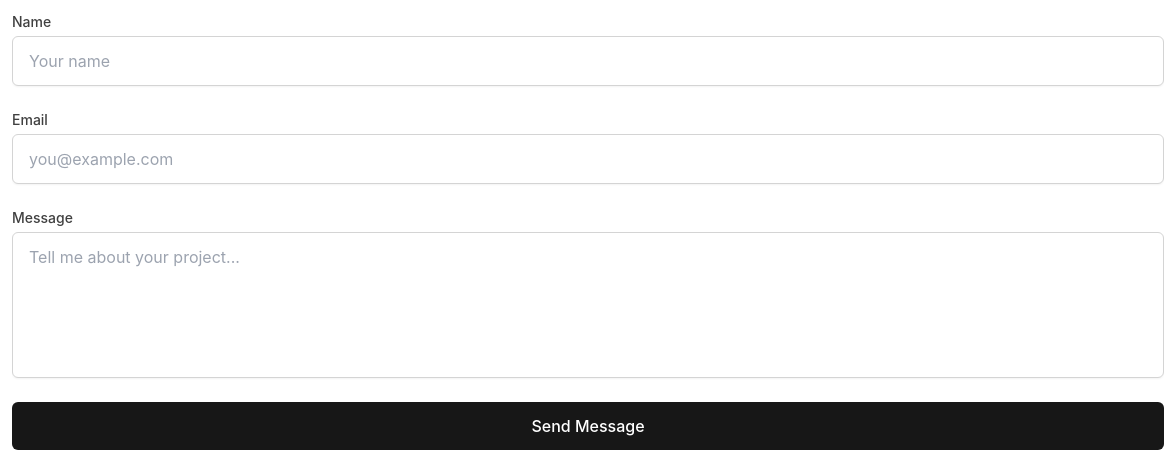
Test case: ContactForm › shows success message after successful submission
The width and height of the screenshot is (1176, 467).
Type "John Doe" into the field labelled "Name" at {"x": 588, "y": 61}, box [12,36,1164,86]
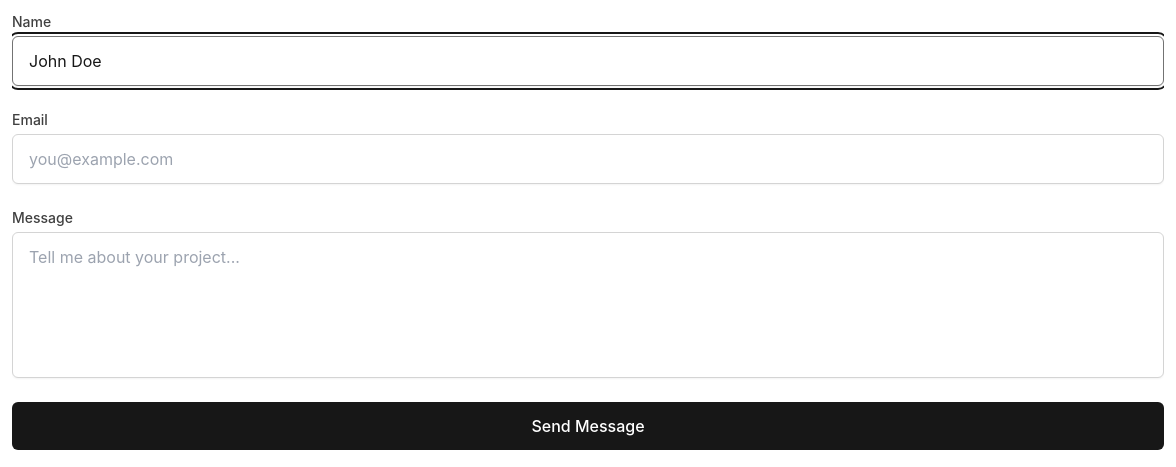
Type "john@example.com" into the field labelled "Email" at {"x": 588, "y": 159}, box [12,134,1164,184]
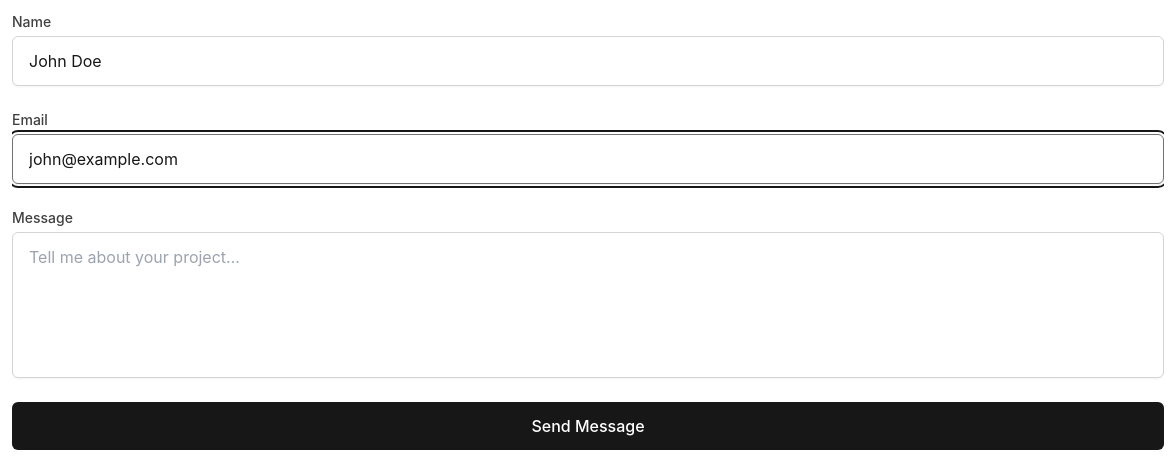
Type "Hello, this is a test message." into the text box labelled "Message" at {"x": 588, "y": 305}, box [12,232,1164,378]
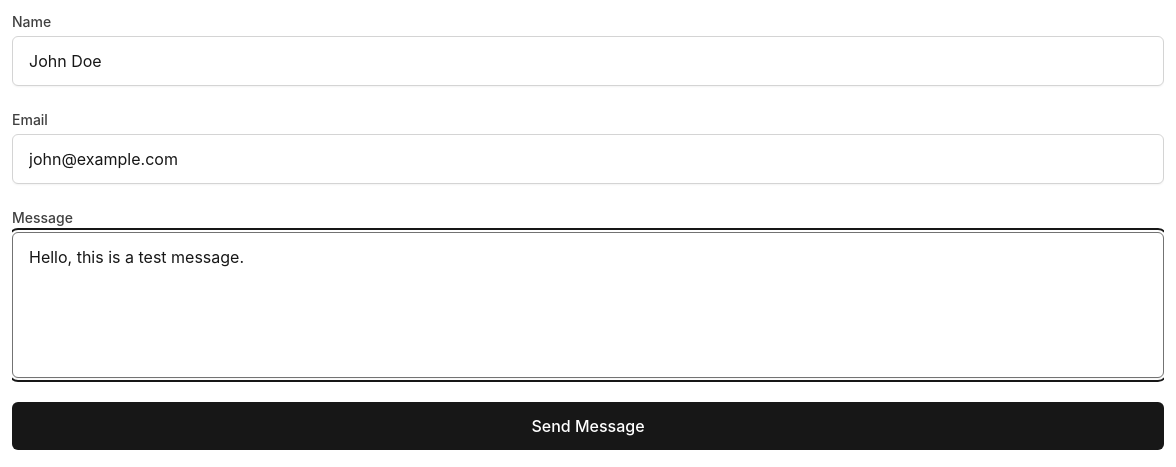
Click the button "Send Message" at {"x": 588, "y": 426}, box [12,402,1164,450]
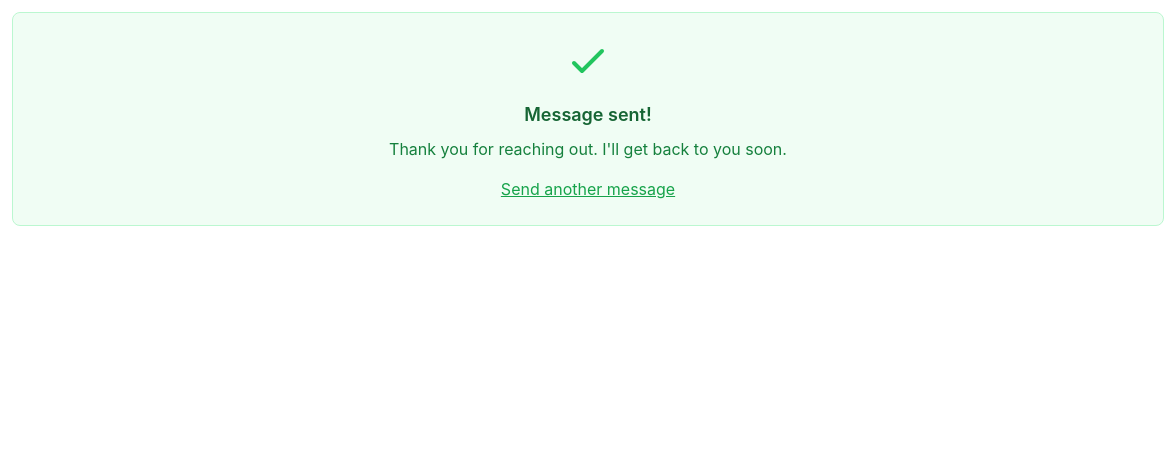
Check: the heading "Message sent!" is shown, box [524,104,652,125]
Check: the text "Thank you for reaching out. I'll get back to you soon." is shown, box [389,139,787,159]
